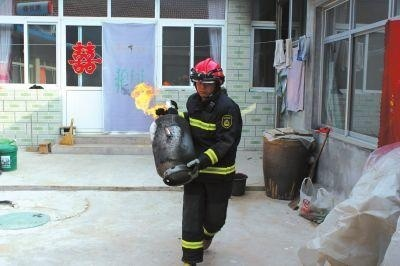fire: (130, 80, 165, 117)
